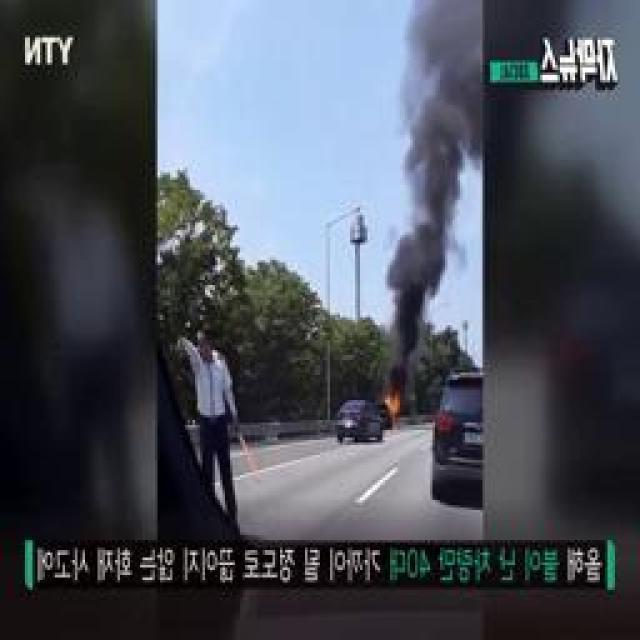Fire: (384, 392, 402, 427)
